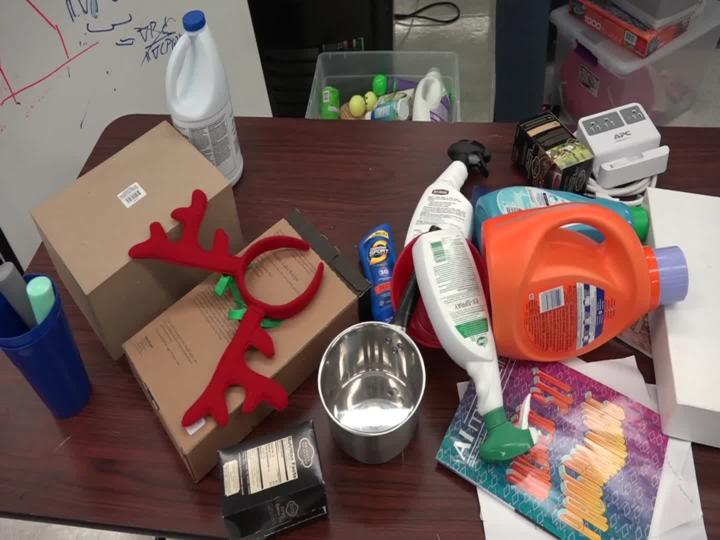downy: (457, 171, 660, 266)
